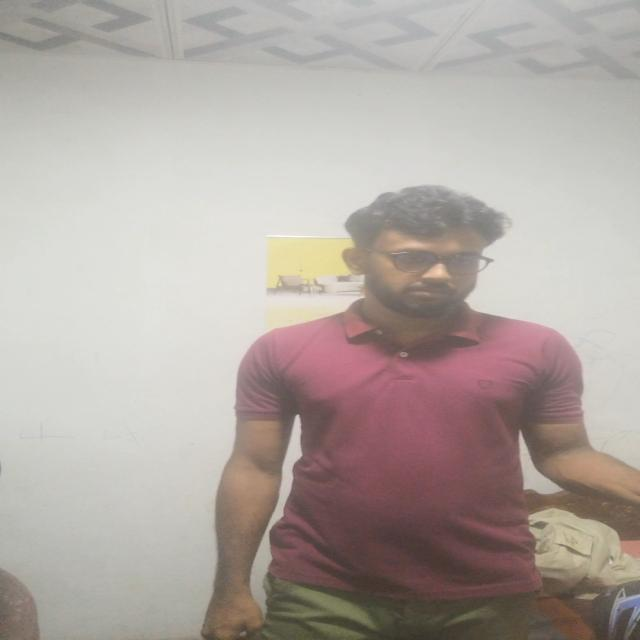Person: (209, 170, 640, 640)
